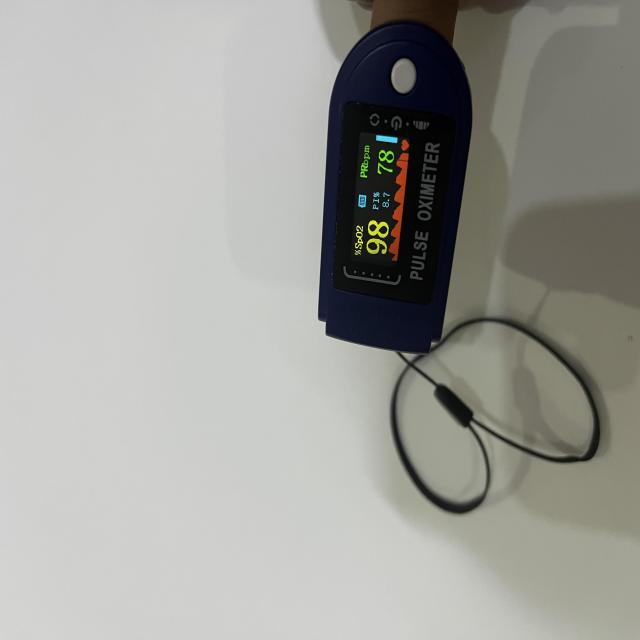spo2: (316, 20, 473, 358)
